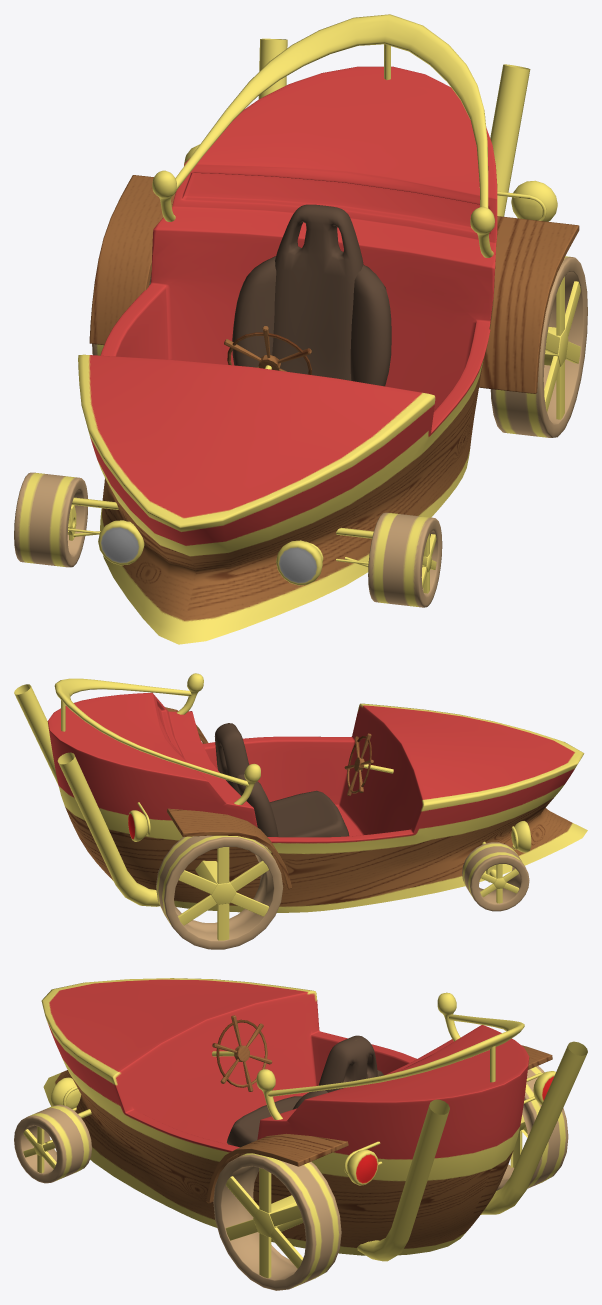
Rendered from Malin_CarScalePose.fbx.
The picture shows the model from 3 angles, top to bottom: view 1: azimuth 30°, elevation 25°; view 2: azimuth 150°, elevation 25°; view 3: azimuth 270°, elevation 25°; orthographic projection. The views are drawn at different scales.
Parts seen in each view (by area): view 1: Circle.033; view 2: Circle.033; view 3: Circle.033.
Part boxes in pixels (bbox=[...]): Circle.033: bbox=[14, 14, 587, 644]; Circle.033: bbox=[14, 673, 587, 949]; Circle.033: bbox=[14, 978, 587, 1290].
Size of the model in its own units: 2395 by 2395 by 1116.
